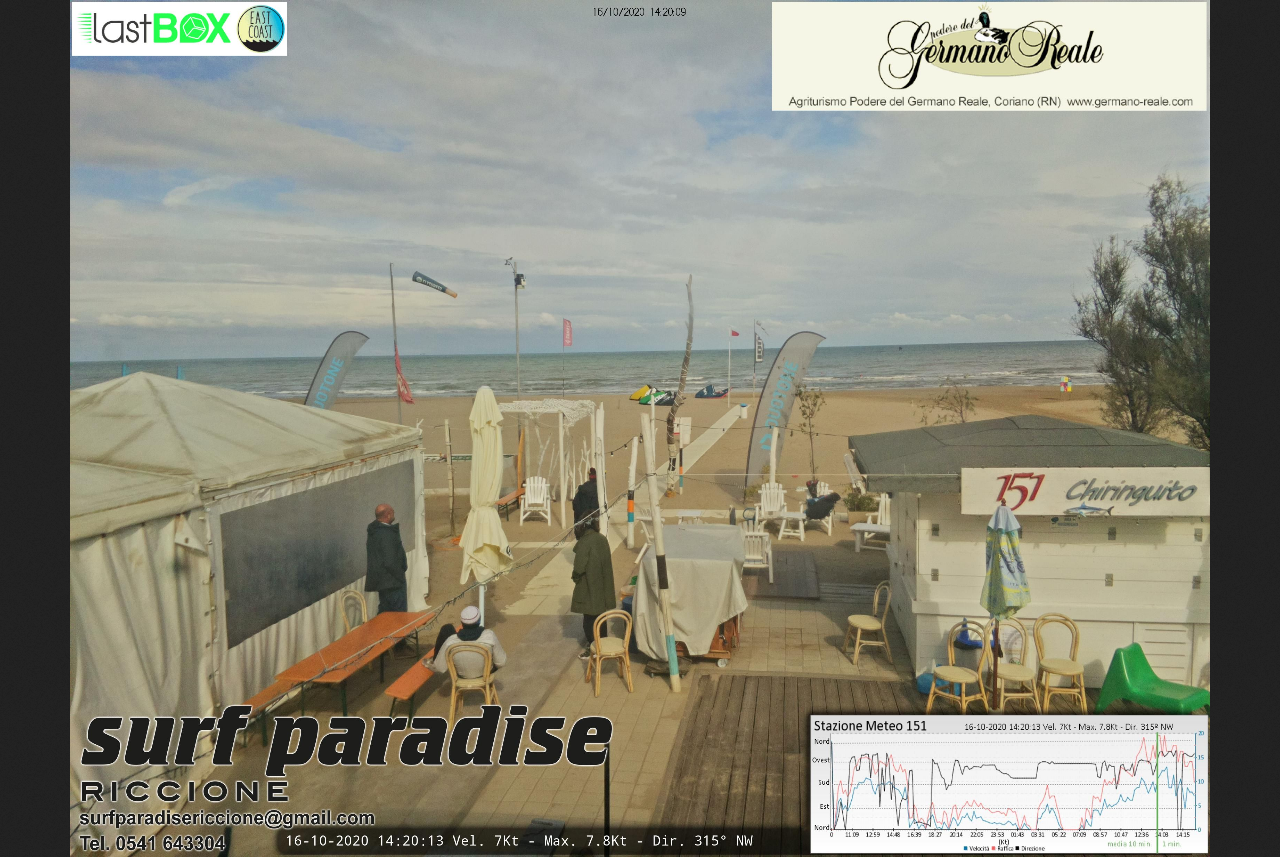yes: (559, 312, 575, 347)
